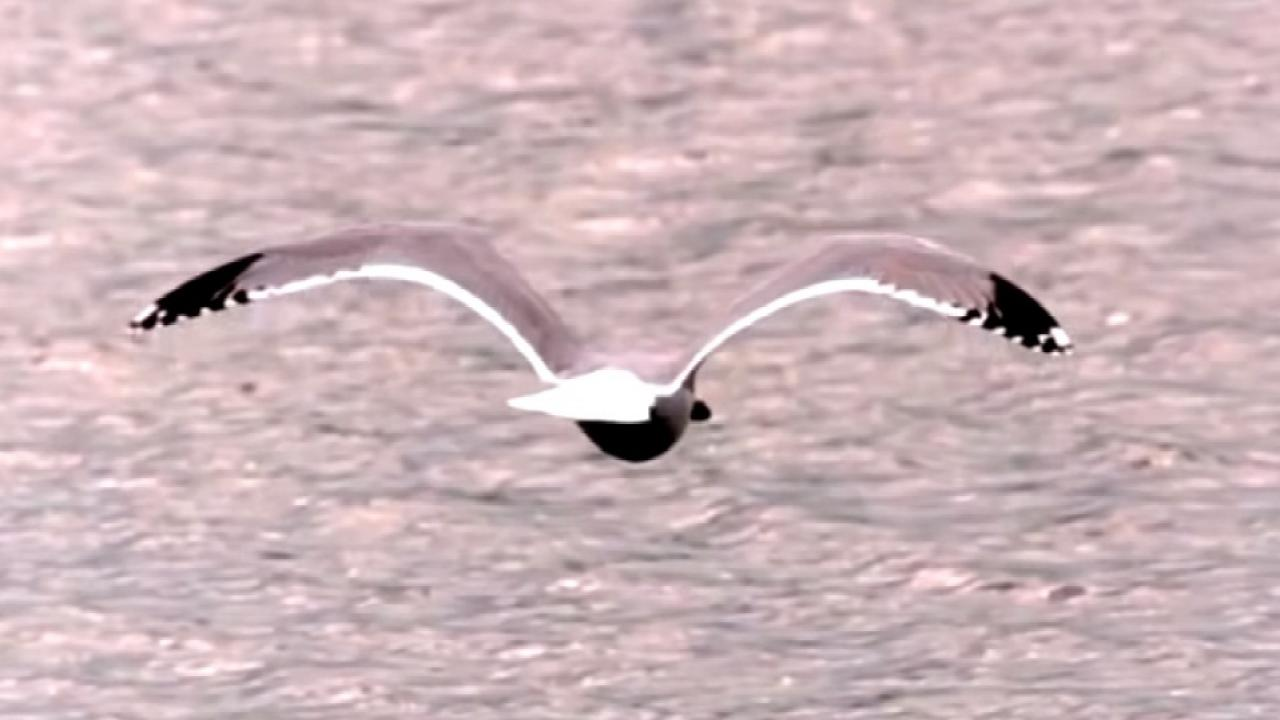Bird: (121, 215, 1083, 472)
